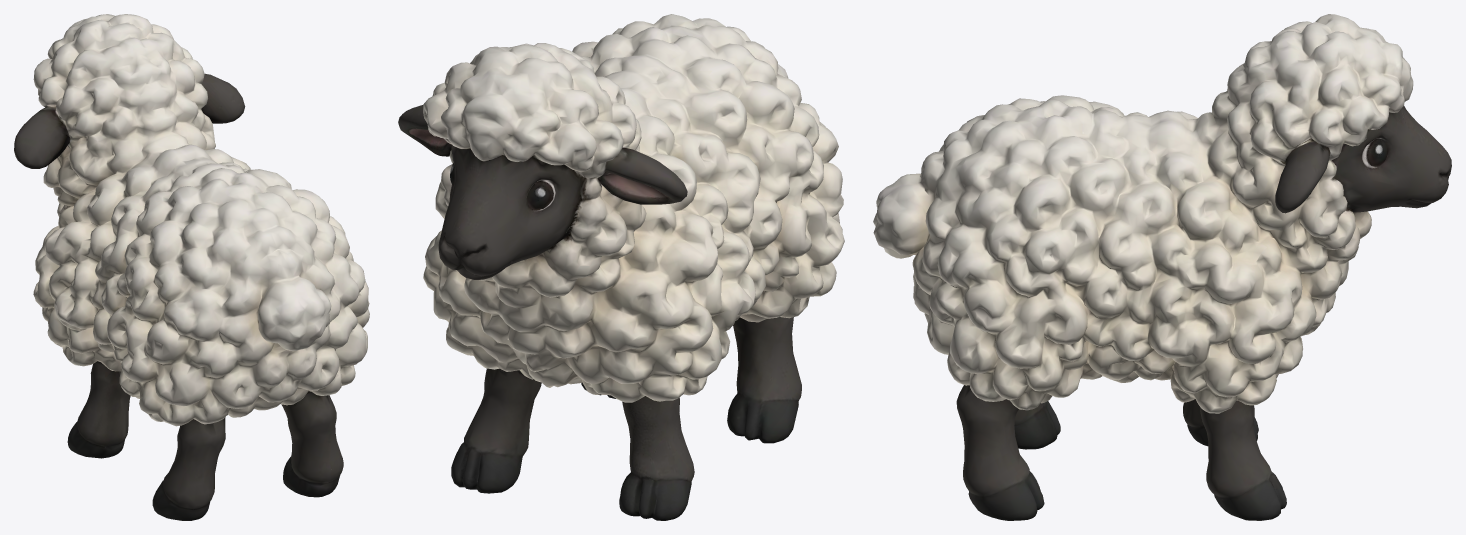
Rendered from sheep.glb.
3 views of the same model, side by side, from view 1: azimuth 30°, elevation 25°; view 2: azimuth 150°, elevation 25°; view 3: azimuth 270°, elevation 25° (orthographic). The views are drawn at different scales.
Parts seen in each view (by area): view 1: tripo_node_48c6340e-7891-4368-a6e7-ffb1fef7f0d8; view 2: tripo_node_48c6340e-7891-4368-a6e7-ffb1fef7f0d8; view 3: tripo_node_48c6340e-7891-4368-a6e7-ffb1fef7f0d8.
Part boxes in pixels (<box>): tripo_node_48c6340e-7891-4368-a6e7-ffb1fef7f0d8: <box>14,14,369,520</box>; tripo_node_48c6340e-7891-4368-a6e7-ffb1fef7f0d8: <box>398,14,844,520</box>; tripo_node_48c6340e-7891-4368-a6e7-ffb1fef7f0d8: <box>873,14,1451,520</box>.
Bounding box in the file's own units: 0.5625 × 0.8535 × 1.
1 material, 1 textured.
